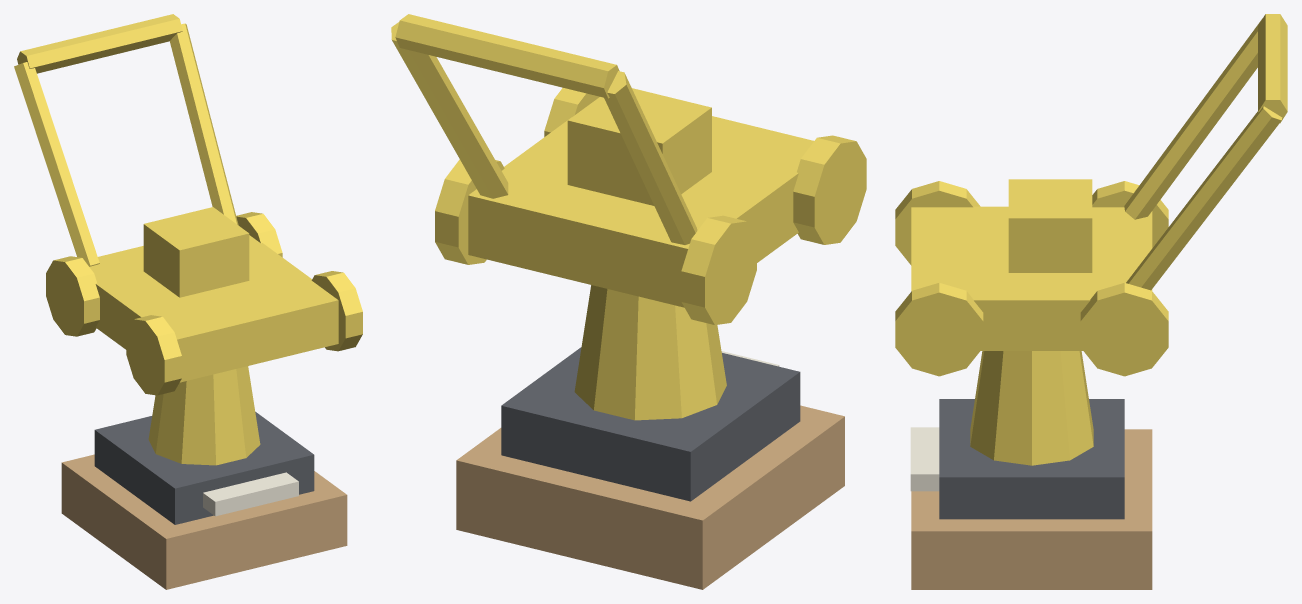
Rendered from lawn-mowing-simulator-kit-golden-mower-trophy-3efaa507__27369.glb.
The picture shows the model from 3 angles, left to right: view 1: azimuth 30°, elevation 25°; view 2: azimuth 150°, elevation 25°; view 3: azimuth 270°, elevation 25°; orthographic projection. The views are drawn at different scales.
Parts seen in each view (by area): view 1: golden-mower-trophy; view 2: golden-mower-trophy; view 3: golden-mower-trophy.
Boxes of the visible parts, x1,y1,x2,y2 form: golden-mower-trophy: (14, 14, 362, 589); golden-mower-trophy: (391, 14, 866, 589); golden-mower-trophy: (895, 14, 1287, 589).
Bounding box in the file's own units: 0.285 × 0.5739 × 0.4236.
